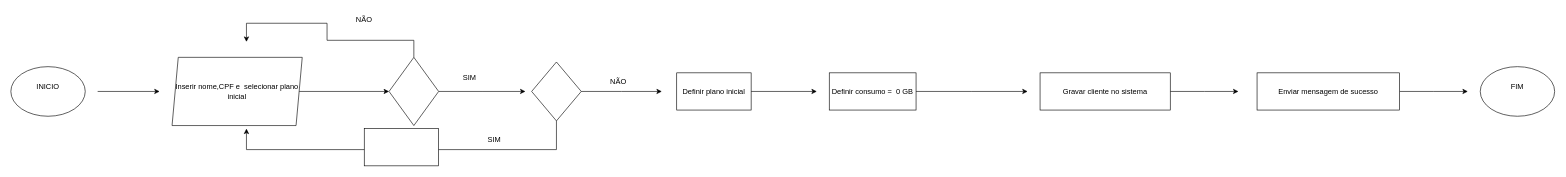
Image size: 1566x177. Some labels were removed from this diagram. Here are the shapes that lost their labels. From the top down, the centre of each, then its label:
point (413, 91): dados válidos?
point (556, 91): CPF já cadastrado?
point (401, 147): Mostrar mensagem de erro
